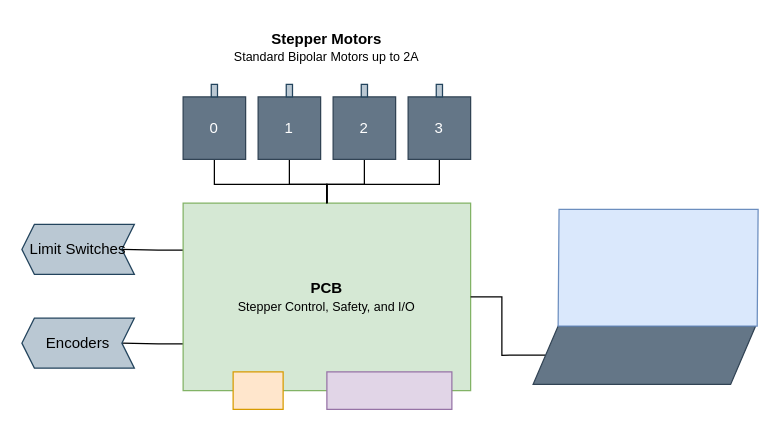
The diagram is 780 pixels wide and 431 high, and some of its shapes have lost their labels. Here are the shapes that lost their labels. From the top down, the centre of each, then its label:
At point (657, 267): "Computer Live Telemetry & Visualization".
At point (257, 390): "SD Card".
At point (389, 390): "Auxiliary I/O".
